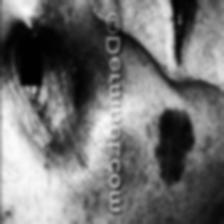Potentially Malignant Skin Tumors: (146, 106, 194, 187)
